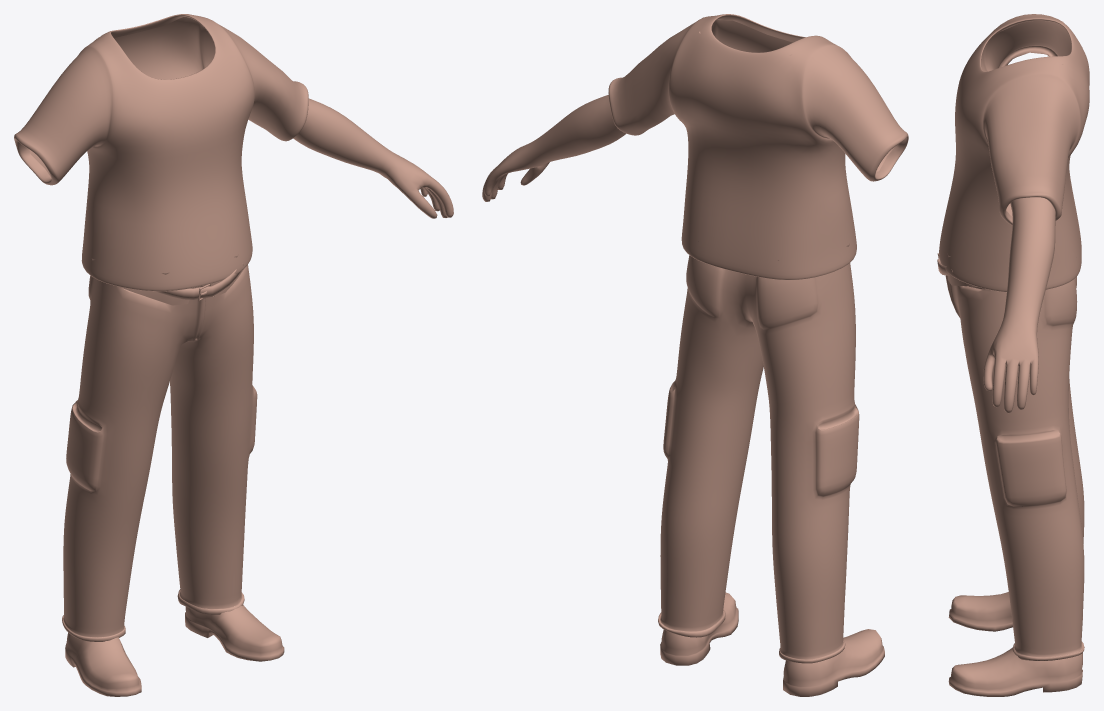
The model's file is clothess.fbx.
The picture shows the model from 3 angles, left to right: view 1: azimuth 30°, elevation 25°; view 2: azimuth 150°, elevation 25°; view 3: azimuth 270°, elevation 25°; orthographic projection. The views are drawn at different scales.
Visible parts, largest first — view 1: CargoPants:CargoPants, TankTop:TankTop, CharacterMale:man, MensBusinessShoes:shoeL, MensBusinessShoes:shoeR, ThickBelt:Strap; view 2: CargoPants:CargoPants, TankTop:TankTop, CharacterMale:man, MensBusinessShoes:shoeR, MensBusinessShoes:shoeL; view 3: CargoPants:CargoPants, TankTop:TankTop, CharacterMale:man, MensBusinessShoes:shoeL, MensBusinessShoes:shoeR.
Boxes of the visible parts, x1,y1,x2,y2 form: CargoPants:CargoPants: [62, 265, 257, 641]; TankTop:TankTop: [14, 14, 308, 291]; CharacterMale:man: [257, 98, 453, 218]; MensBusinessShoes:shoeL: [185, 604, 284, 661]; MensBusinessShoes:shoeR: [65, 632, 141, 696]; ThickBelt:Strap: [156, 263, 243, 299]; CargoPants:CargoPants: [658, 255, 859, 663]; TankTop:TankTop: [608, 14, 908, 280]; CharacterMale:man: [482, 95, 626, 201]; MensBusinessShoes:shoeR: [783, 629, 884, 696]; MensBusinessShoes:shoeL: [660, 592, 738, 665]; CargoPants:CargoPants: [945, 275, 1084, 660]; TankTop:TankTop: [939, 14, 1089, 292]; CharacterMale:man: [983, 197, 1055, 412]; MensBusinessShoes:shoeL: [948, 647, 1082, 696]; MensBusinessShoes:shoeR: [948, 592, 1082, 631].
Bounding box in the file's own units: 112 × 159 × 35.64.
